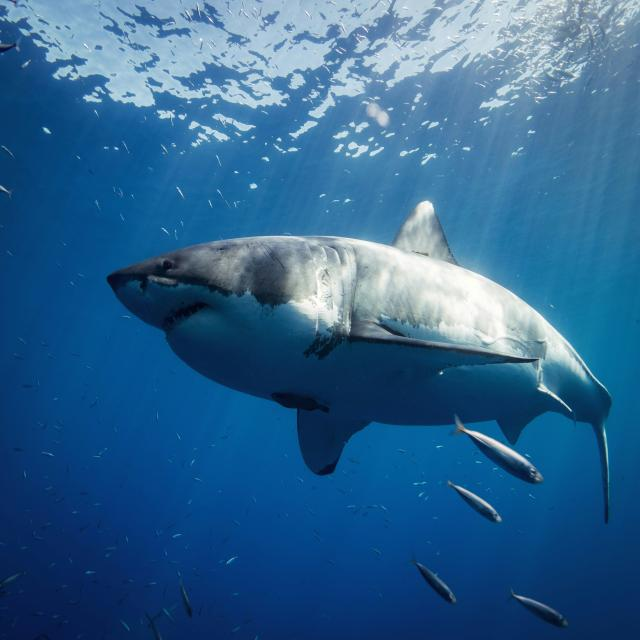gaviota: (107, 201, 611, 523)
